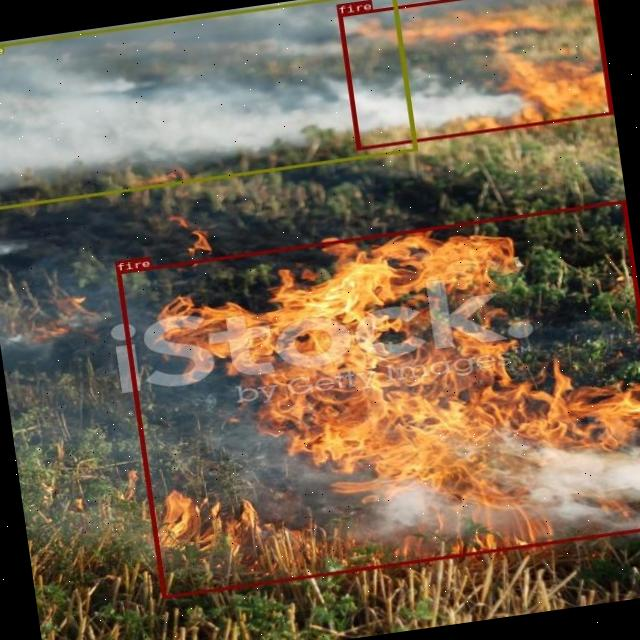fire: (116, 199, 640, 597), (338, 0, 612, 149)
smoke: (0, 0, 417, 211)
